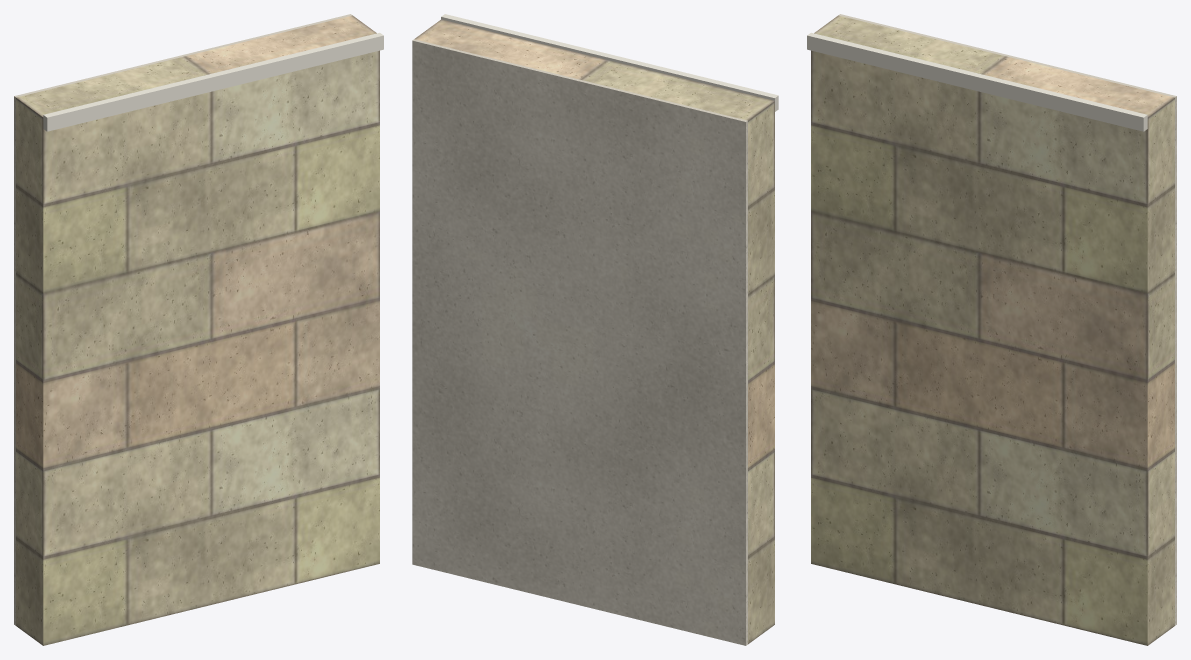
File: wall_ashlar_plain.glb
The picture shows the model from 3 angles, left to right: view 1: azimuth 30°, elevation 25°; view 2: azimuth 150°, elevation 25°; view 3: azimuth 330°, elevation 25°; orthographic projection.
Visible parts, largest first — view 1: wall_ashlar_plain_ashlar, wall_ashlar_plain_trim, wall_ashlar_plain_plaster; view 2: wall_ashlar_plain_plaster, wall_ashlar_plain_ashlar, wall_ashlar_plain_trim; view 3: wall_ashlar_plain_ashlar, wall_ashlar_plain_trim, wall_ashlar_plain_plaster.
Part boxes in pixels (x1=…): wall_ashlar_plain_ashlar: x1=16, y1=15, x2=379, y2=645; wall_ashlar_plain_trim: x1=43, y1=32, x2=383, y2=131; wall_ashlar_plain_plaster: x1=14, y1=14, x2=352, y2=625; wall_ashlar_plain_plaster: x1=412, y1=39, x2=747, y2=645; wall_ashlar_plain_ashlar: x1=414, y1=19, x2=774, y2=644; wall_ashlar_plain_trim: x1=441, y1=14, x2=778, y2=111; wall_ashlar_plain_ashlar: x1=811, y1=15, x2=1174, y2=645; wall_ashlar_plain_trim: x1=807, y1=32, x2=1147, y2=131; wall_ashlar_plain_plaster: x1=838, y1=14, x2=1176, y2=625.
Size of the model in its own units: 2 by 3.02 by 0.34.
Materials: 3 (2 with a texture image).
